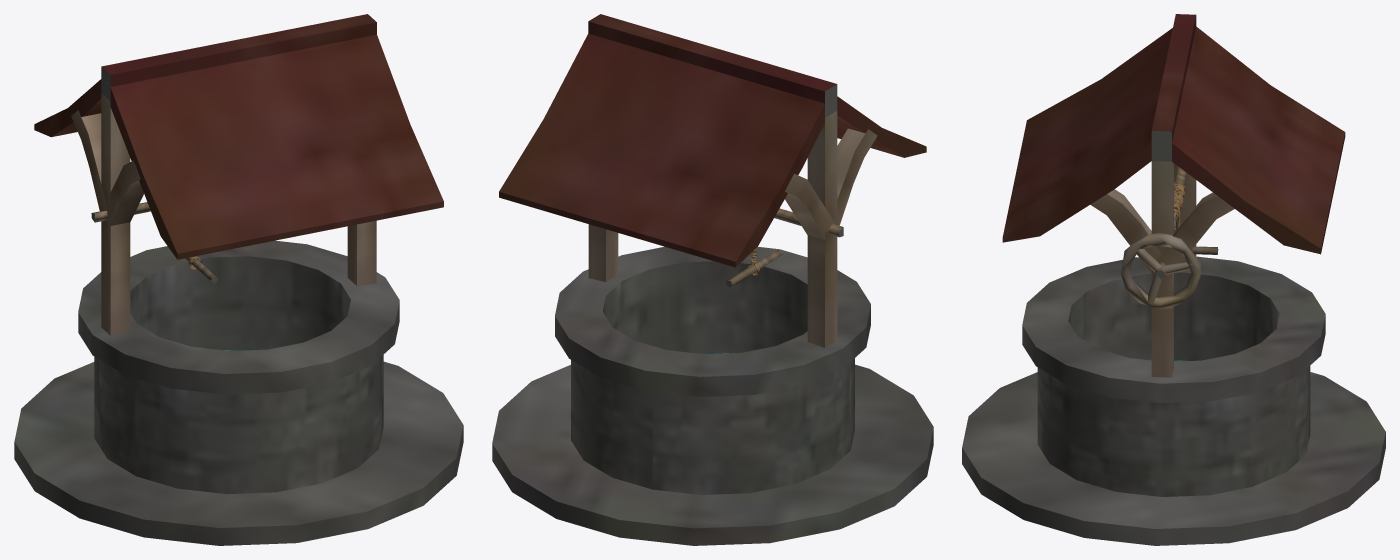
The model's file is well.glb.
3 renders of one model, left to right at view 1: azimuth 30°, elevation 25°; view 2: azimuth 150°, elevation 25°; view 3: azimuth 270°, elevation 25°, orthographic. The views are drawn at different scales.
Visible parts, largest first — view 1: prefab; view 2: prefab; view 3: prefab.
Boxes of the visible parts, box(x1,y1,x2,y2) form: prefab: box(14, 14, 463, 545); prefab: box(492, 14, 933, 545); prefab: box(962, 14, 1385, 545).
Bounding box in the file's own units: 1.93 × 1.94 × 1.93.
Materials: 2 (2 with a texture image).
